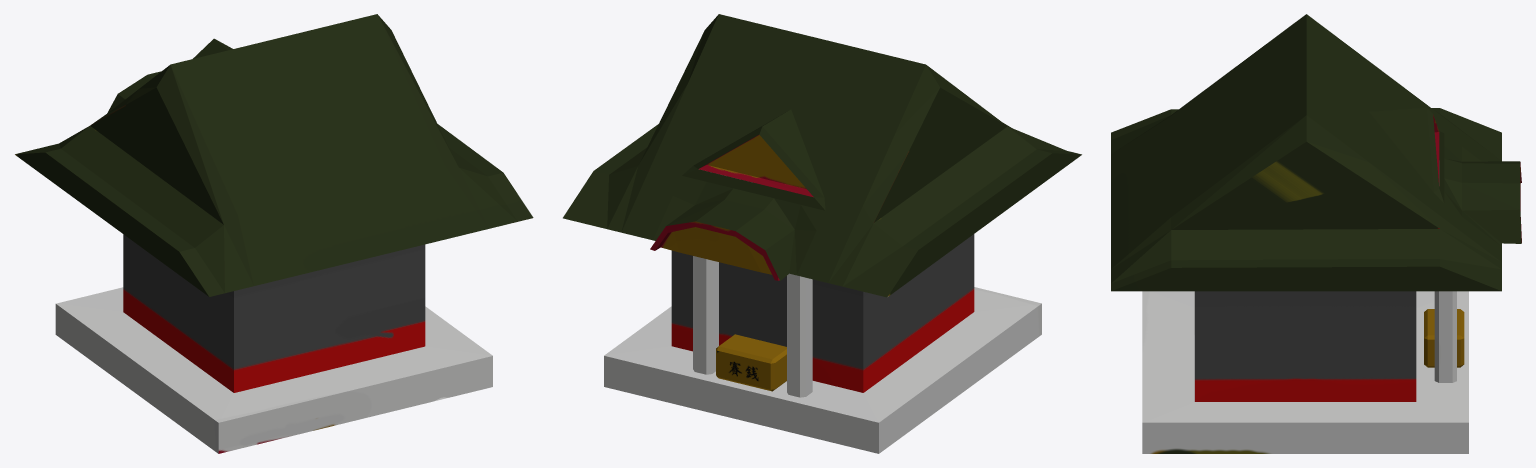
The model's file is pantyShrine.fbx.
The picture shows the model from 3 angles, left to right: view 1: azimuth 30°, elevation 25°; view 2: azimuth 150°, elevation 25°; view 3: azimuth 270°, elevation 25°; orthographic projection.
Visible parts, largest first — view 1: Cube; view 2: Cube, Cube.001, Cube.002; view 3: Cube, Cube.001, Cube.002.
Part boxes in pixels (x1,y1,x2,y2): Cube: [15, 14, 533, 453]; Cube: [563, 14, 1081, 453]; Cube.001: [693, 256, 812, 397]; Cube.002: [716, 334, 786, 391]; Cube: [1111, 14, 1521, 453]; Cube.001: [1434, 291, 1456, 382]; Cube.002: [1424, 309, 1464, 367].
Bounding box in the file's own units: 3.39 × 3.21 × 3.71.
Materials: 1 (1 with a texture image).
